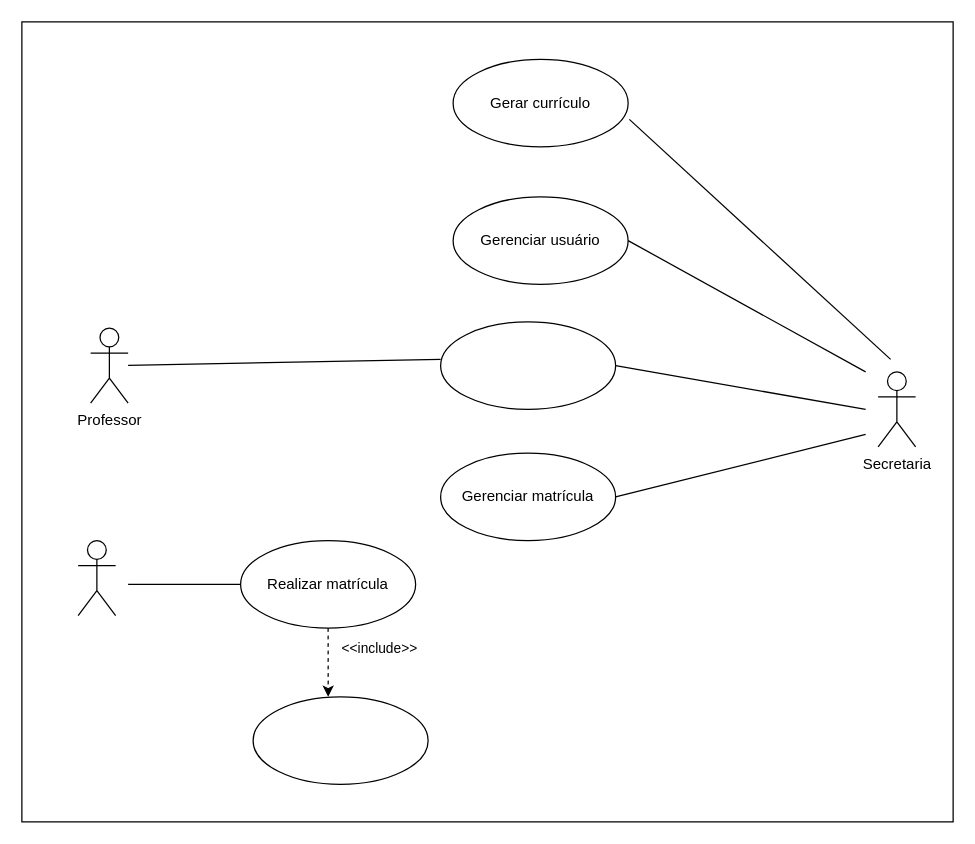
This 975x844 diagram has some shape labels left out. The shapes that lost their labels are listed below. From the top down, each one's box as (x1, y1, x2, y2) in pixels, then its label:
(439, 321, 616, 409): Gerenciar disciplina
(77, 539, 116, 616): Aluno
(252, 696, 428, 784): Realizar pagamento
